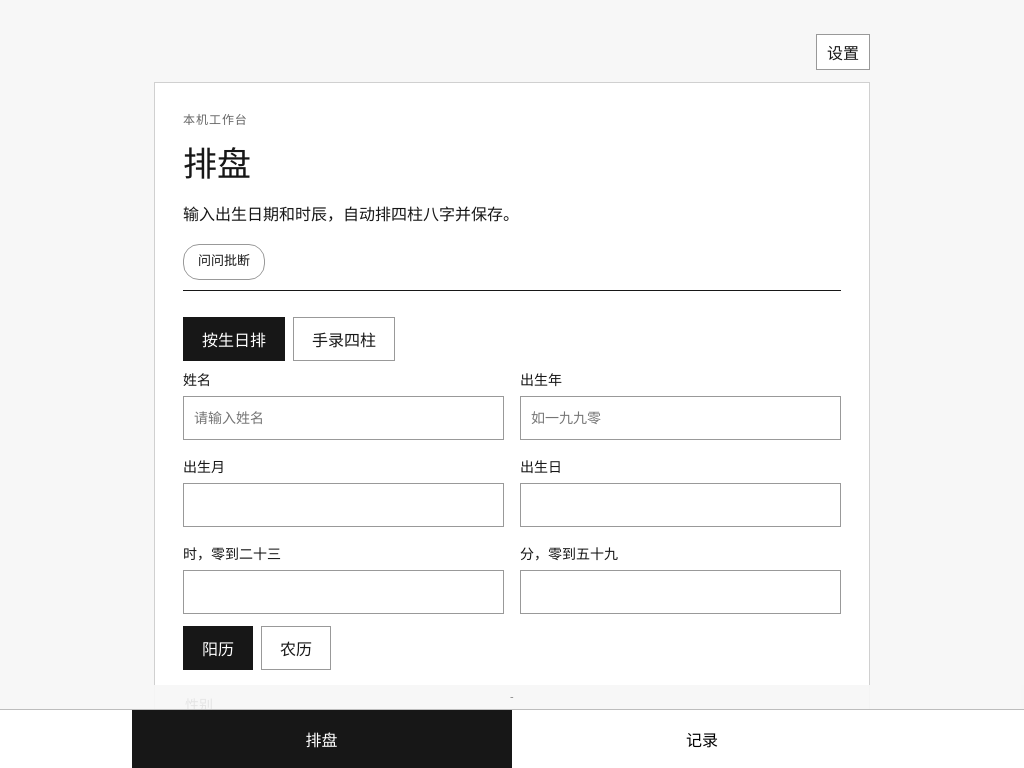
Test: 两套链接：裸链走云端三通道，#local 直接走本机引擎 › 未开通 + #local：不开通、不接管，界面上仍然只有那一格密钥框
// 想用的话只能在设置页那一格粘密钥 —— 界面没有第二种开启方式。
Click the button "设置" at (843, 52), box [816,34,870,70]
(page scrolled)
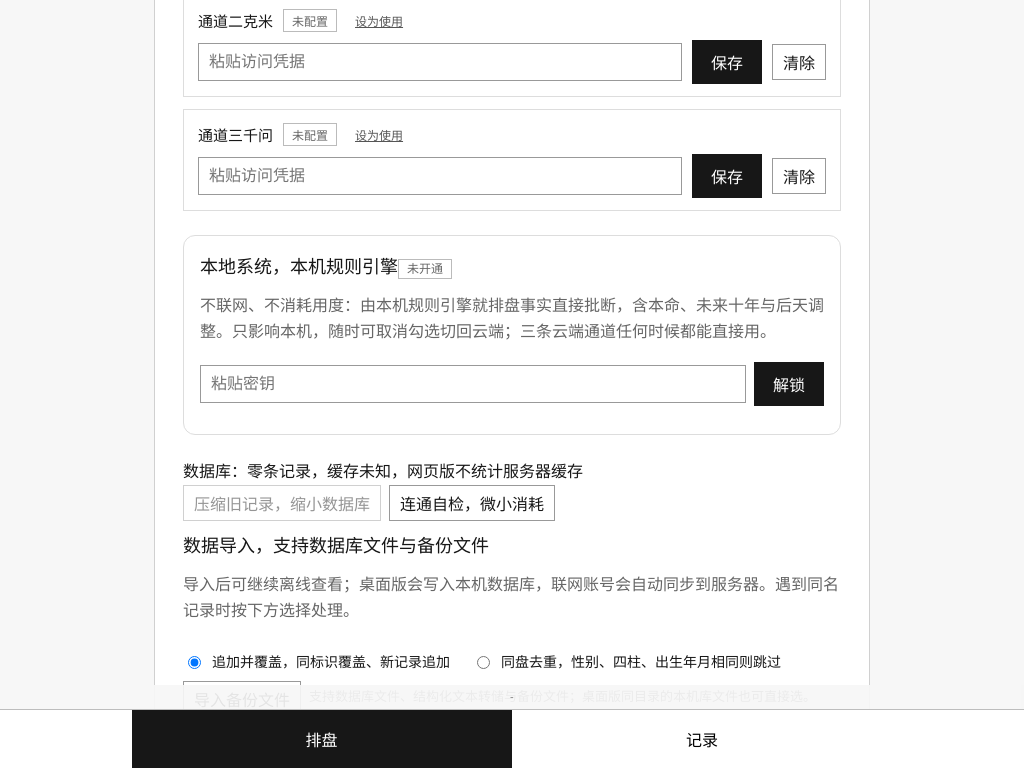
expect the password field named "本地系统密钥" is shown: met, box [200,365,746,403]
